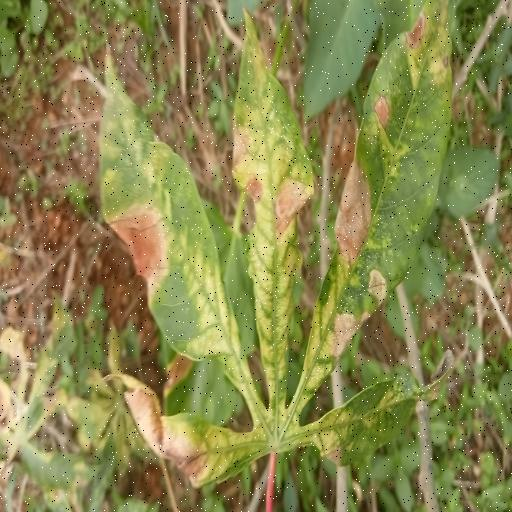Cassava_Root_Rot: (93, 6, 462, 482)
